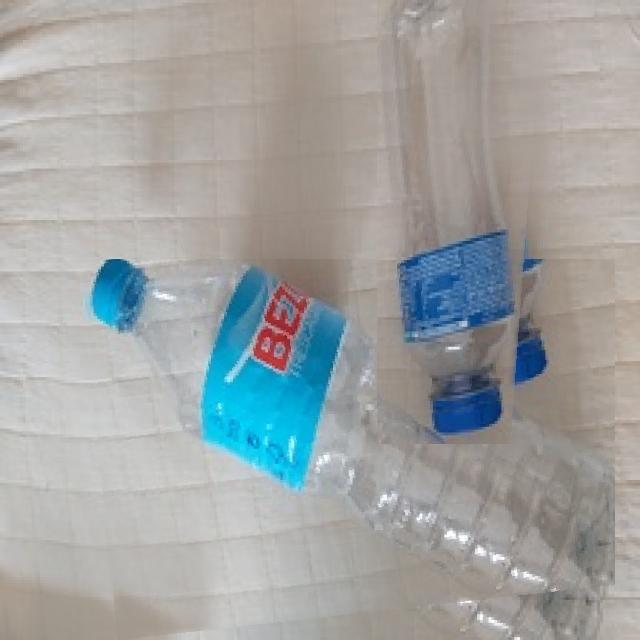plastic bottle: (81, 259, 615, 640), (377, 0, 543, 444)
